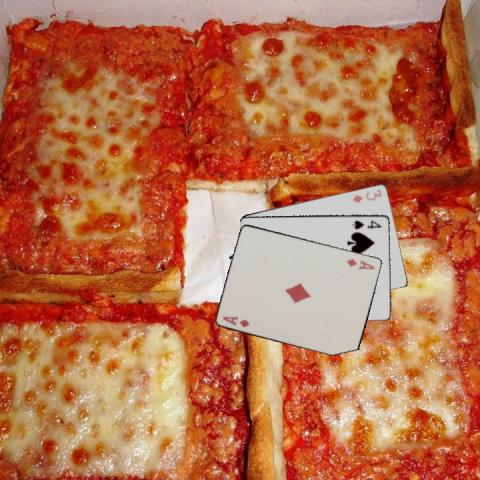3d: (350, 186, 384, 204)
4s: (350, 217, 384, 230)
Ad: (220, 312, 252, 329), (344, 255, 377, 271)
